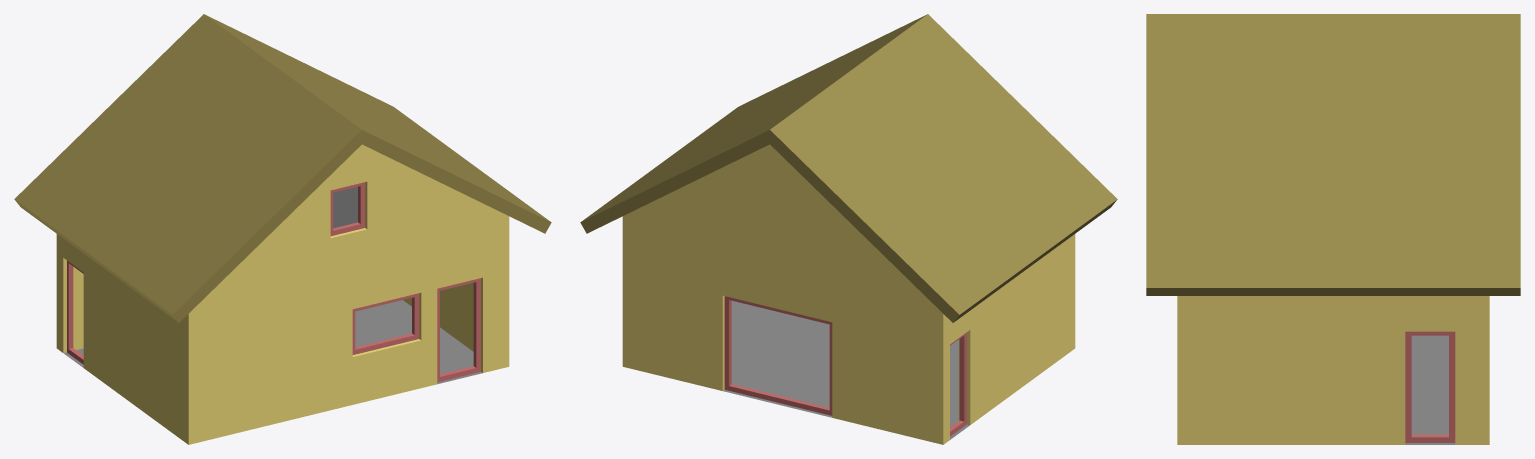
Rendered from result.glb.
The picture shows the model from 3 angles, left to right: view 1: azimuth 30°, elevation 25°; view 2: azimuth 150°, elevation 25°; view 3: azimuth 270°, elevation 25°; orthographic projection. The views are drawn at different scales.
Parts seen in each view (by area): view 1: 4b0c82ee-2854-4cb0-8b83-6c43420d2049__undefined, a269aa95-c14d-499e-bab3-cfeecc999547__undefined (×2), 953df688-6cdf-4cc7-9882-261e2c5cc133__Plane_8, edf63de3-596b-4d2c-b530-1bf05339944e__Box, bc9ff6d2-0a40-419e-bb8a-a93533ace601__Box_3, c6c206f7-5420-4ef4-bc09-269efe4d2912__Box_24, 86530d71-efd6-47c6-b4aa-343ad58cac18__Box_6, 2db8903f-7b14-490e-8001-ea41d718759d__Box_12; view 2: 4b0c82ee-2854-4cb0-8b83-6c43420d2049__undefined, a269aa95-c14d-499e-bab3-cfeecc999547__undefined (×2), 953df688-6cdf-4cc7-9882-261e2c5cc133__Plane_8, 7b99b7d2-0647-4a3e-8365-aad76cf8243c__Box_9, 2db8903f-7b14-490e-8001-ea41d718759d__Box_12; view 3: a269aa95-c14d-499e-bab3-cfeecc999547__undefined, 4b0c82ee-2854-4cb0-8b83-6c43420d2049__undefined, 953df688-6cdf-4cc7-9882-261e2c5cc133__Plane_8, 985de863-e459-4927-b6df-95dd1c618978__Box_18.
Boxes of the visible parts, bbox=[...] form: 4b0c82ee-2854-4cb0-8b83-6c43420d2049__undefined: bbox=[56, 144, 509, 444]; a269aa95-c14d-499e-bab3-cfeecc999547__undefined (×2): bbox=[14, 14, 551, 322]; 953df688-6cdf-4cc7-9882-261e2c5cc133__Plane_8: bbox=[64, 300, 482, 384]; edf63de3-596b-4d2c-b530-1bf05339944e__Box: bbox=[437, 278, 480, 382]; bc9ff6d2-0a40-419e-bb8a-a93533ace601__Box_3: bbox=[352, 293, 419, 354]; c6c206f7-5420-4ef4-bc09-269efe4d2912__Box_24: bbox=[333, 186, 357, 228]; 86530d71-efd6-47c6-b4aa-343ad58cac18__Box_6: bbox=[330, 182, 365, 236]; 2db8903f-7b14-490e-8001-ea41d718759d__Box_12: bbox=[67, 260, 83, 364]; 4b0c82ee-2854-4cb0-8b83-6c43420d2049__undefined: bbox=[622, 144, 1075, 444]; a269aa95-c14d-499e-bab3-cfeecc999547__undefined (×2): bbox=[580, 14, 1117, 322]; 953df688-6cdf-4cc7-9882-261e2c5cc133__Plane_8: bbox=[723, 300, 969, 439]; 7b99b7d2-0647-4a3e-8365-aad76cf8243c__Box_9: bbox=[724, 296, 832, 415]; 2db8903f-7b14-490e-8001-ea41d718759d__Box_12: bbox=[950, 332, 966, 436]; a269aa95-c14d-499e-bab3-cfeecc999547__undefined: bbox=[1146, 14, 1520, 295]; 4b0c82ee-2854-4cb0-8b83-6c43420d2049__undefined: bbox=[1177, 296, 1489, 444]; 953df688-6cdf-4cc7-9882-261e2c5cc133__Plane_8: bbox=[1405, 335, 1455, 444]; 985de863-e459-4927-b6df-95dd1c618978__Box_18: bbox=[1405, 331, 1455, 442].
Size of the model in its own units: 831 by 598 by 600.
